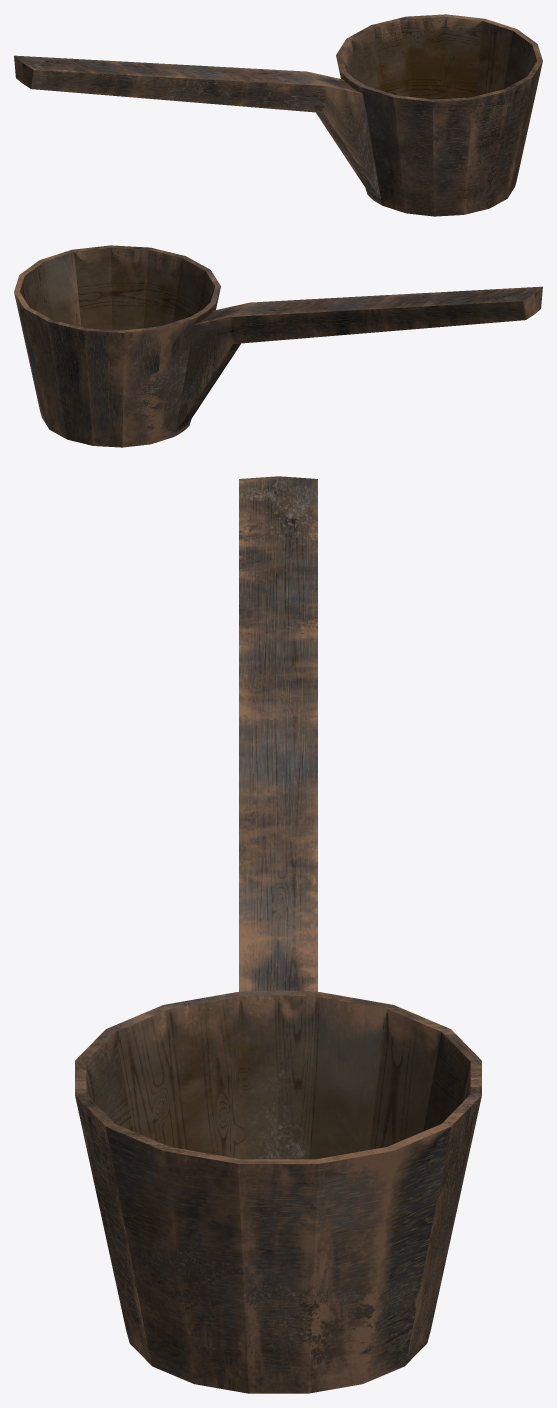
File: B.Prop_Water_ladle.fbx
The picture shows the model from 3 angles, top to bottom: view 1: azimuth 30°, elevation 25°; view 2: azimuth 150°, elevation 25°; view 3: azimuth 270°, elevation 25°; orthographic projection. The views are drawn at different scales.
Visible parts, largest first — view 1: Cylinder; view 2: Cylinder; view 3: Cylinder.
Part boxes in pixels (x1,y1,x2,y2): Cylinder: (14, 14, 542, 216); Cylinder: (14, 245, 542, 447); Cylinder: (75, 476, 481, 1393).
Bounding box in the file's own units: 838 × 354 × 292.
1 material, 1 textured.
